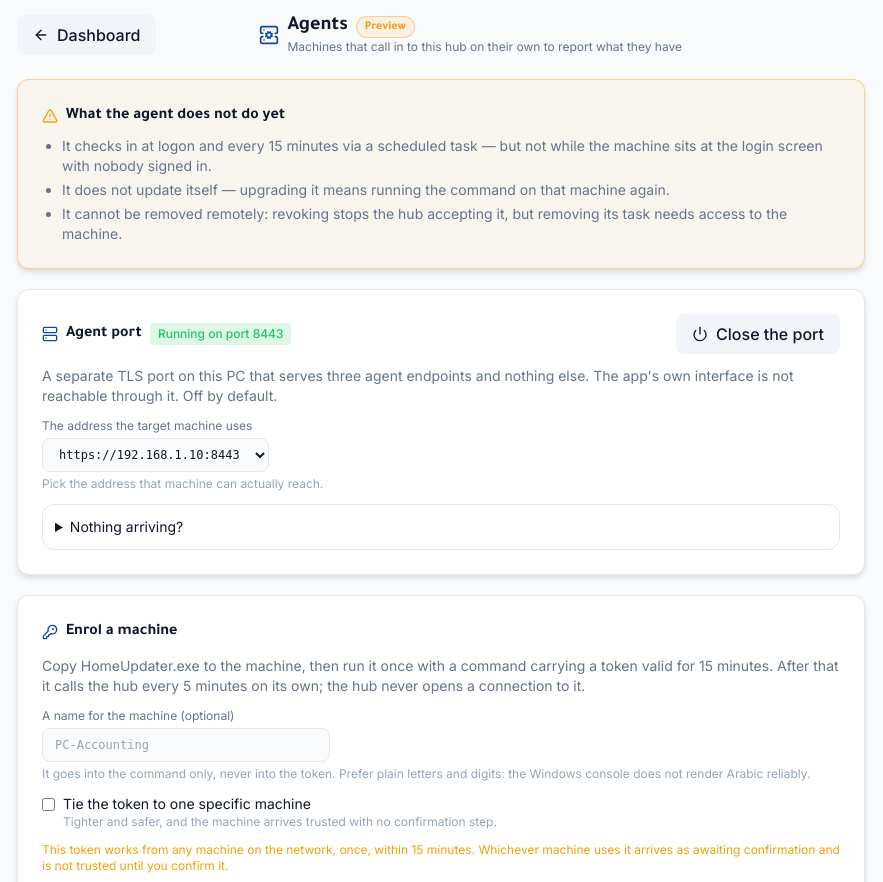
Test: the listener › gives the firewall command without running it
expect the element with test id "listener-ready" is shown: met, box x1=17 y1=289 x2=865 y2=575
Click the heading "Nothing arriving?": {"x": 126, "y": 526} x1=70 y1=518 x2=183 y2=535
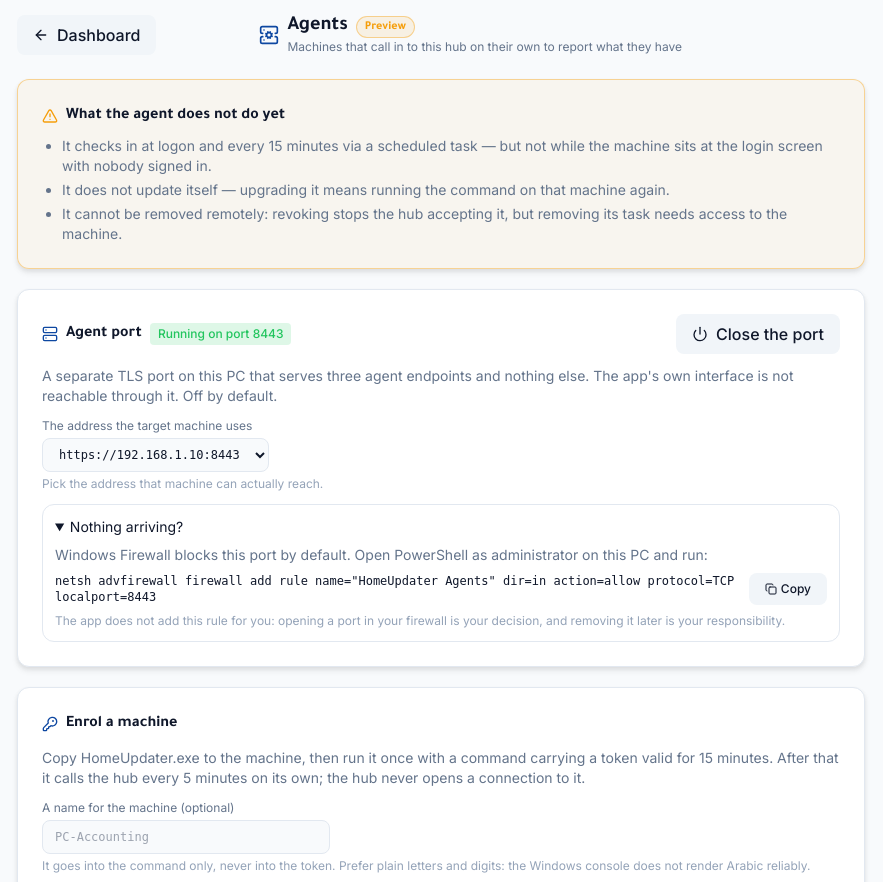
expect the text "netsh advfirewall" is shown: met, box x1=55 y1=574 x2=734 y2=604
expect the text "your decision" is shown: met, box x1=55 y1=613 x2=785 y2=628
